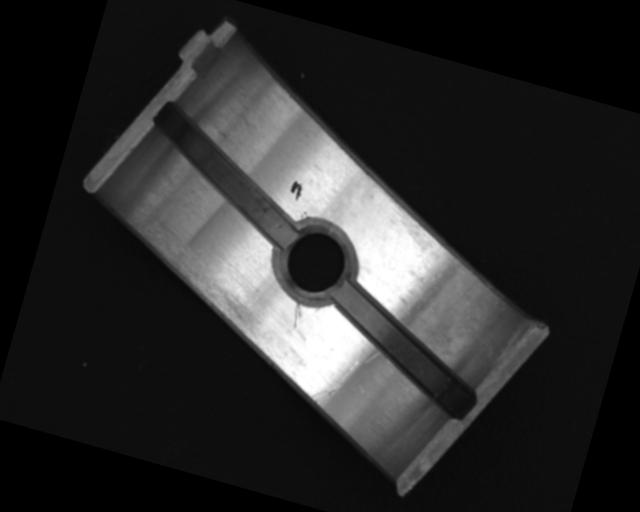blot: (288, 178, 305, 201)
gap: (130, 99, 319, 247), (313, 280, 497, 420)
hole: (263, 211, 367, 314)
nick: (309, 348, 361, 410), (289, 302, 304, 328)
scratch: (108, 219, 280, 343)
